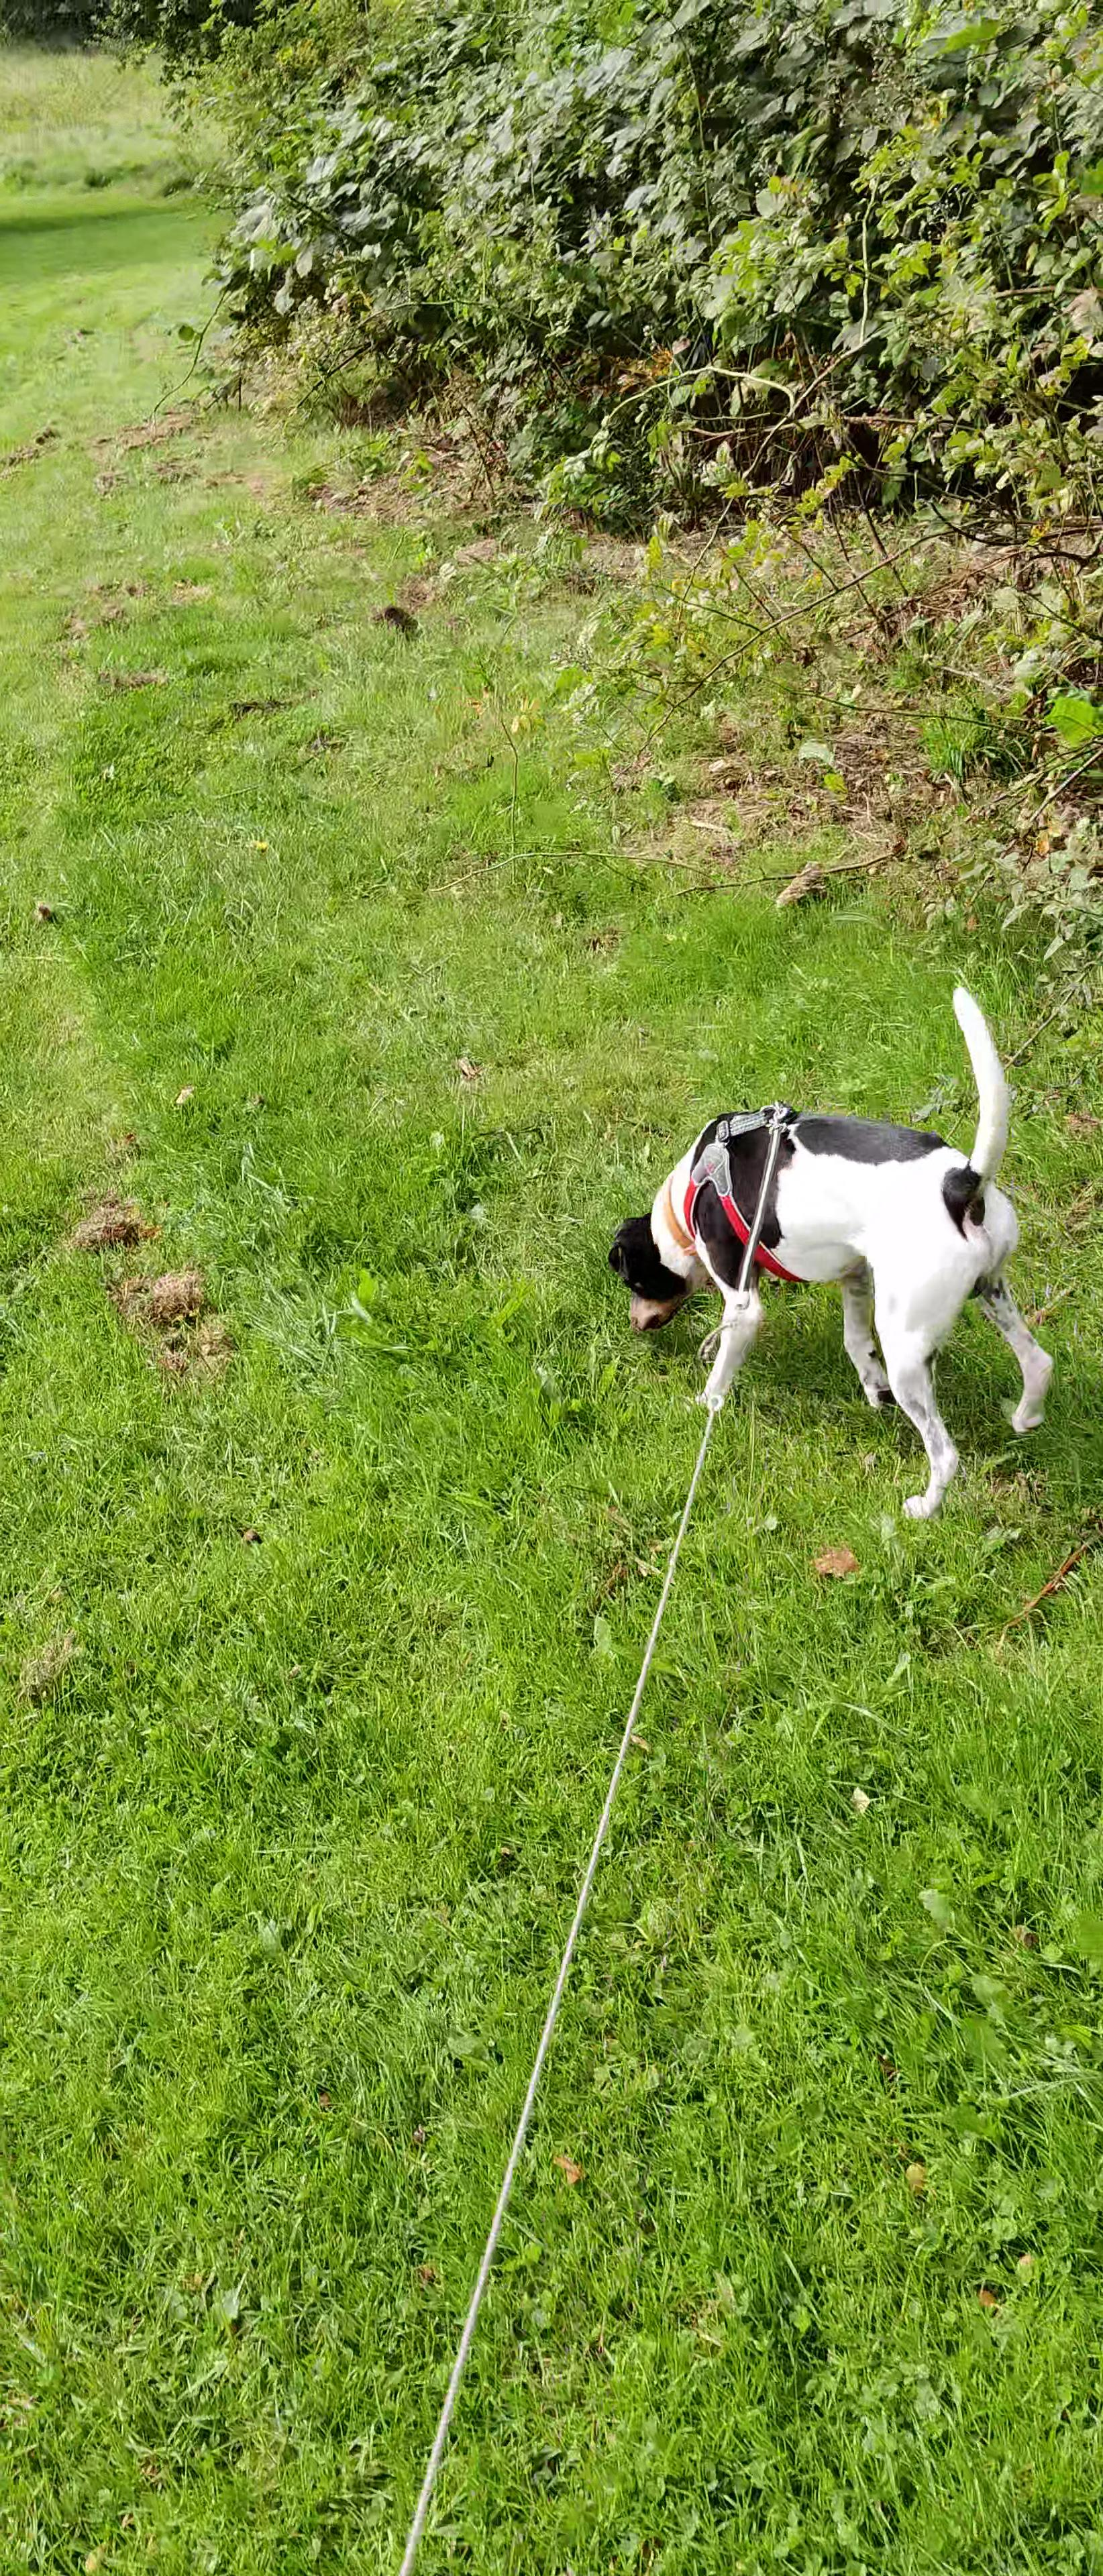Dog: (603, 935, 1067, 1546)
